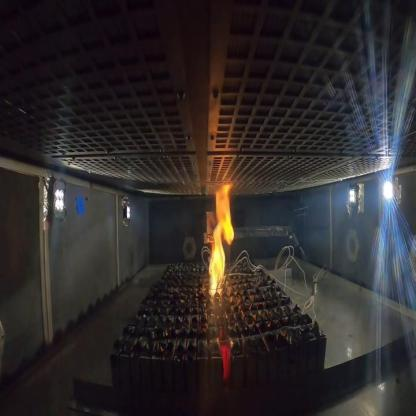fire: (207, 182, 236, 296)
